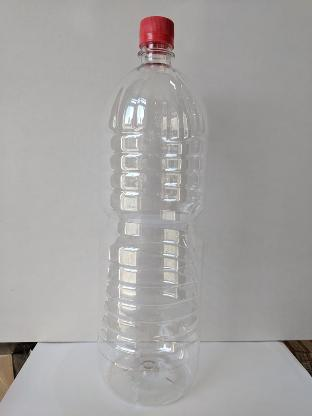Plastic Bottle: (96, 15, 209, 406)
